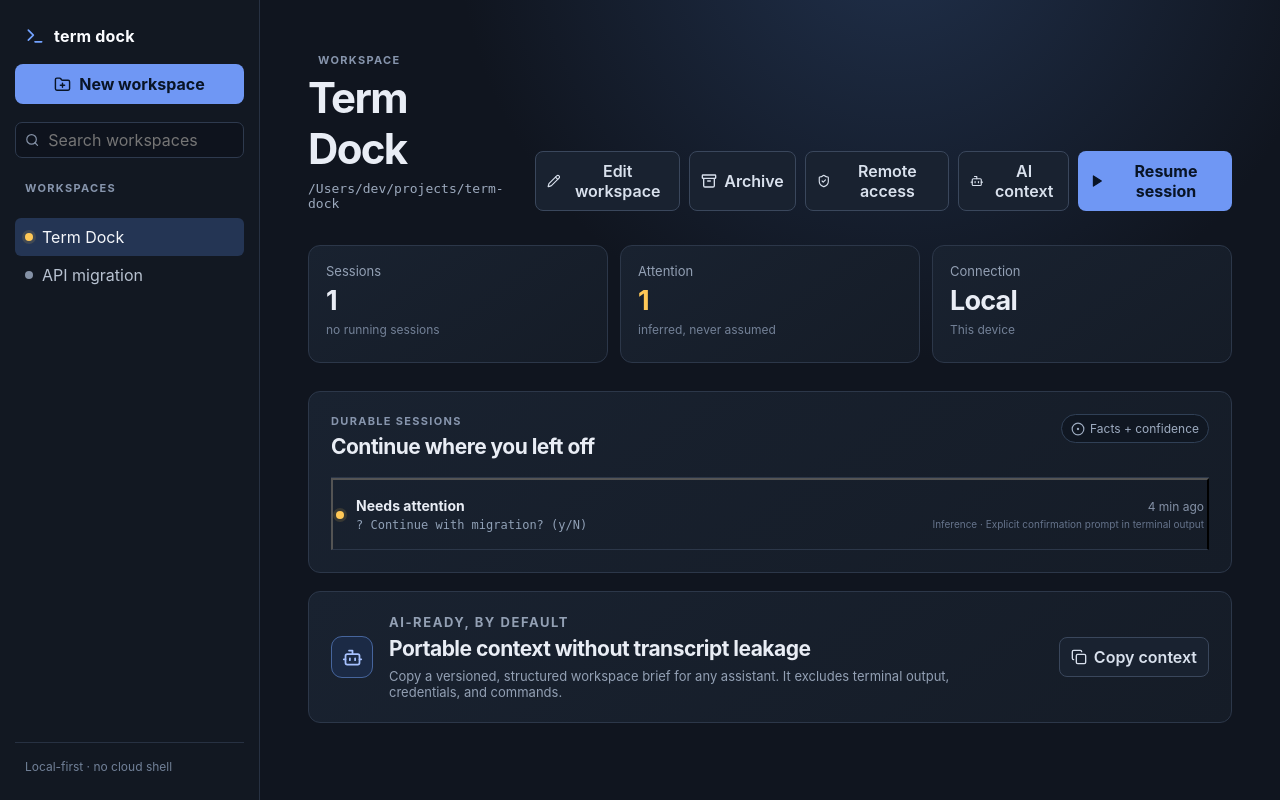
Scenario: workspace dashboard › archives a workspace without terminating a session
This screenshot has width=1280, height=800.
Click the button "API migration": (130, 275) 15,256 -> 244,294
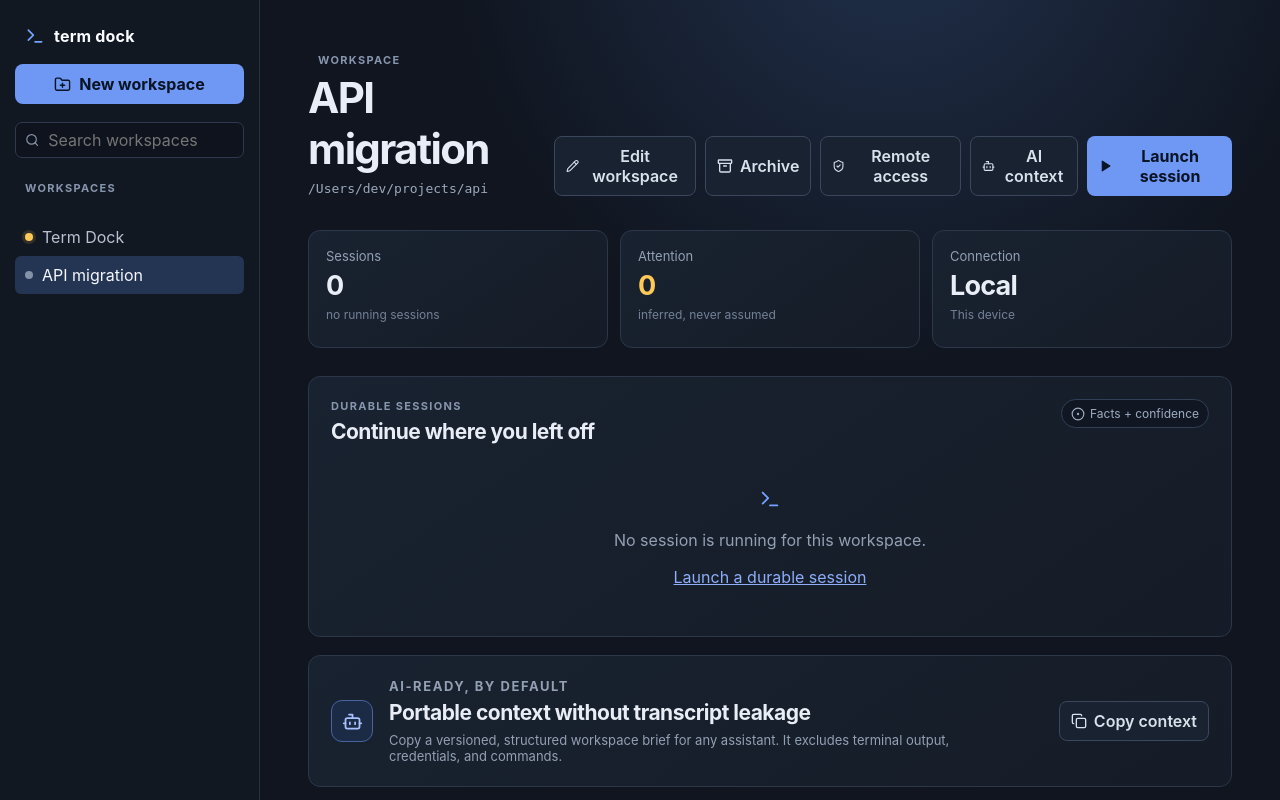
Expected: the heading "API migration" is shown, 308,72 -> 489,174
Click the button "Archive": (758, 166) 705,136 -> 811,196
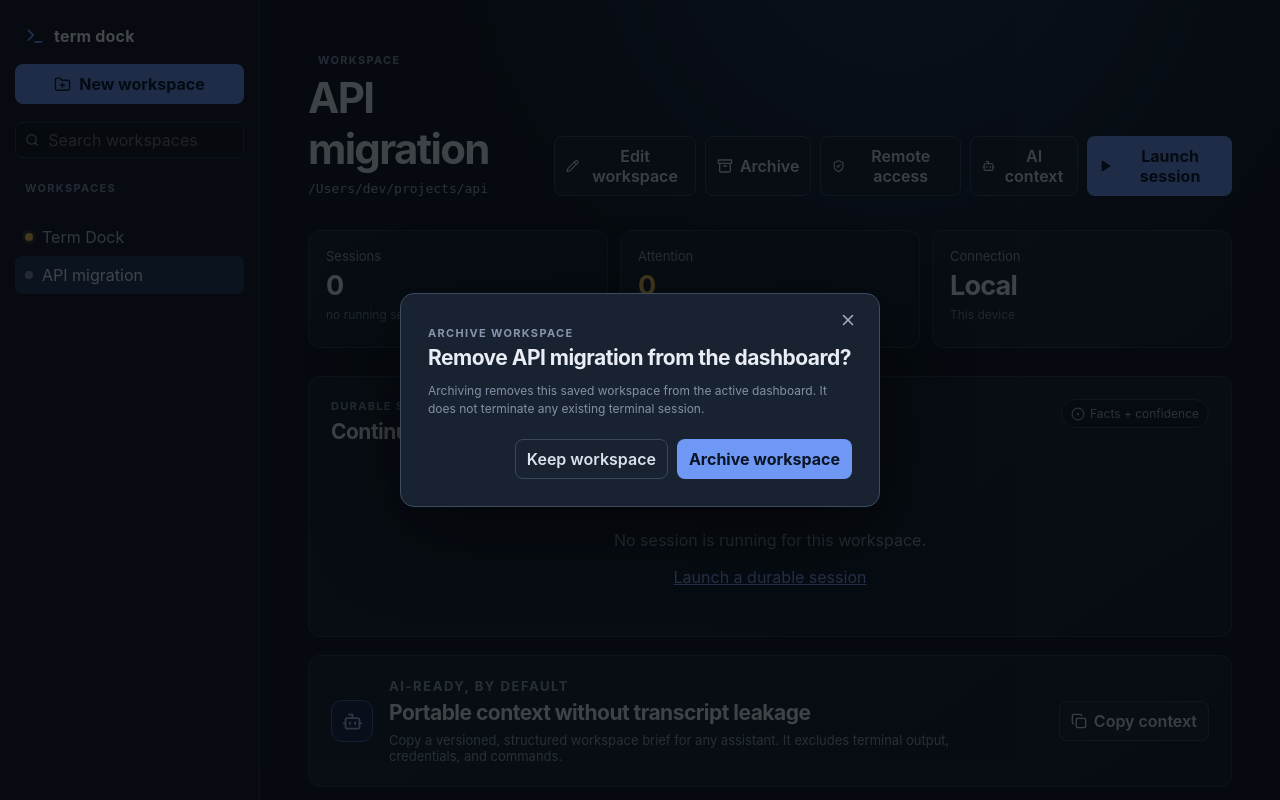
Expected: the element labelled "ARCHIVE WORKSPACE" is shown, 400,293 -> 880,507
Click the button "Archive workspace": (764, 459) 677,439 -> 852,479
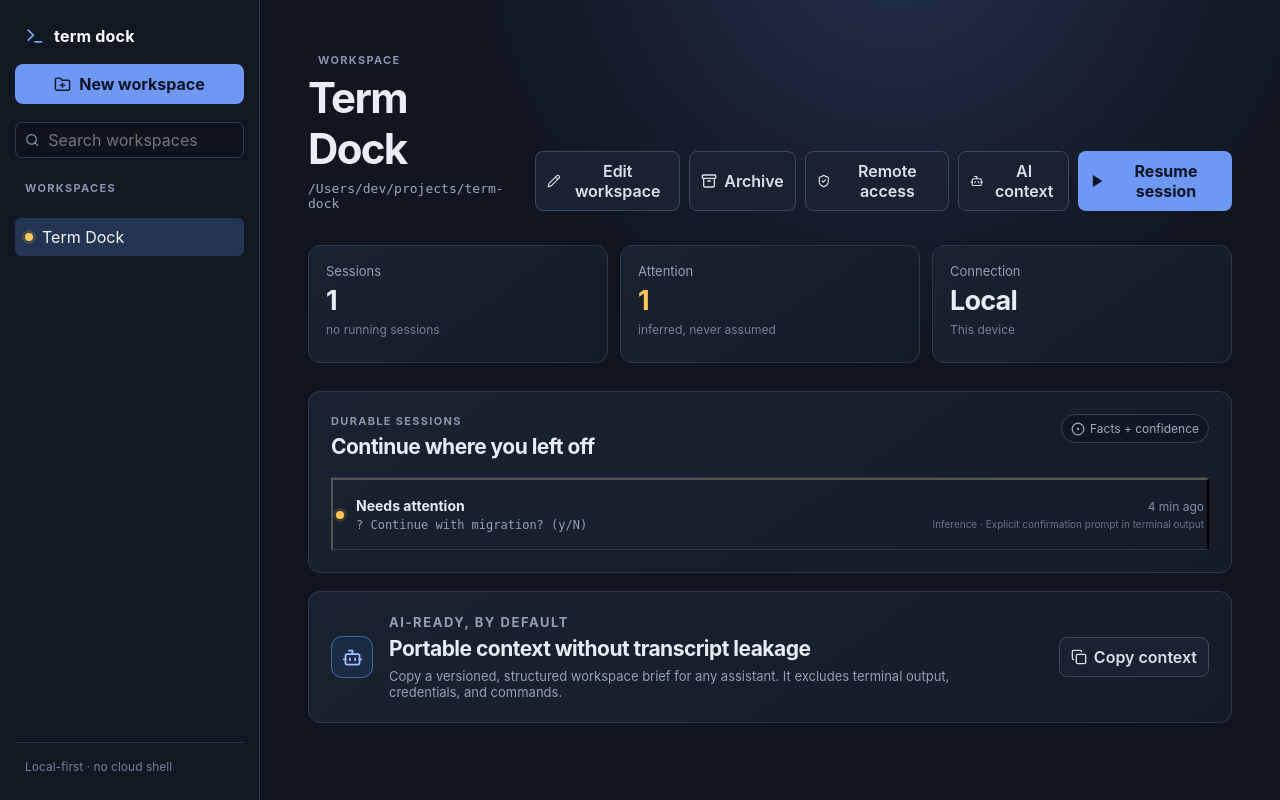
Expected: the button "API migration" is gone
